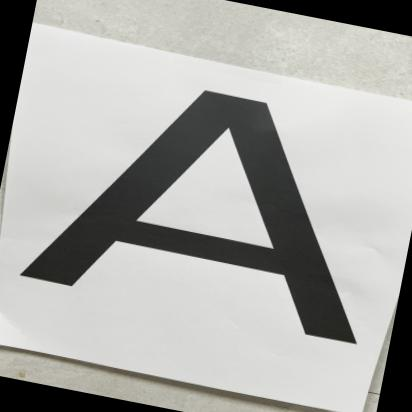seat: (11, 50, 412, 366)
